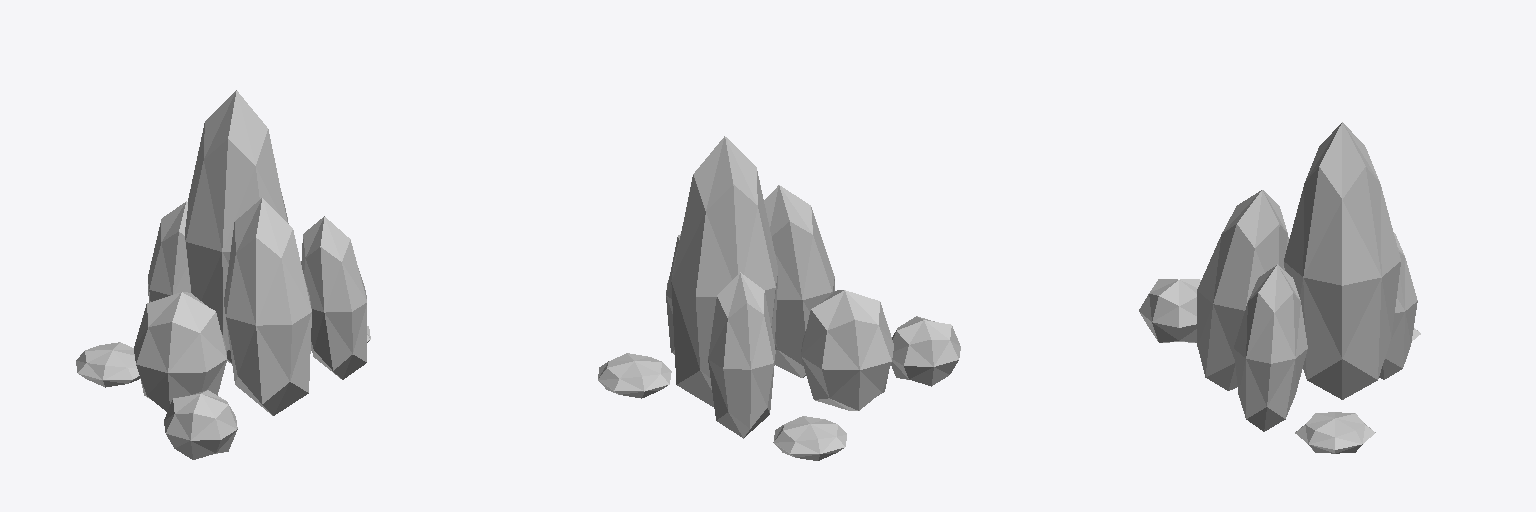
Rendered from rock01.obj.
3 views of the same model, side by side, from view 1: azimuth 30°, elevation 25°; view 2: azimuth 150°, elevation 25°; view 3: azimuth 270°, elevation 25° (orthographic).
Parts seen in each view (by area): view 1: rock_01_rock01; view 2: rock_01_rock01; view 3: rock_01_rock01.
Part boxes in pixels (x1,y1,x2,y2): rock_01_rock01: (76, 90, 370, 459); rock_01_rock01: (598, 136, 960, 460); rock_01_rock01: (1139, 122, 1420, 453).
Bounding box in the file's own units: 3.31 × 3.14 × 2.88.